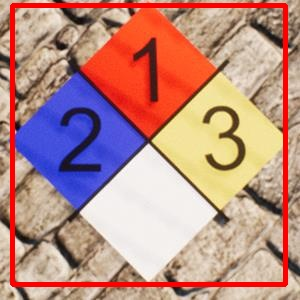nfpa: (12, 5, 285, 284)
